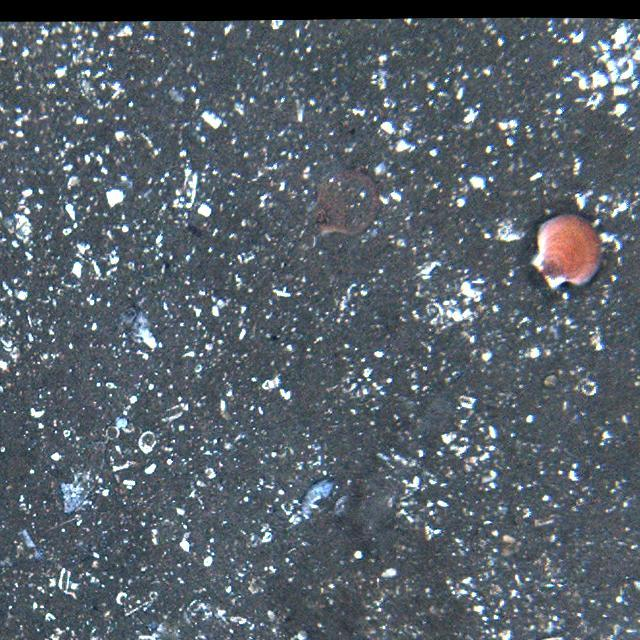scallop: (534, 209, 608, 292), (302, 169, 380, 239)
